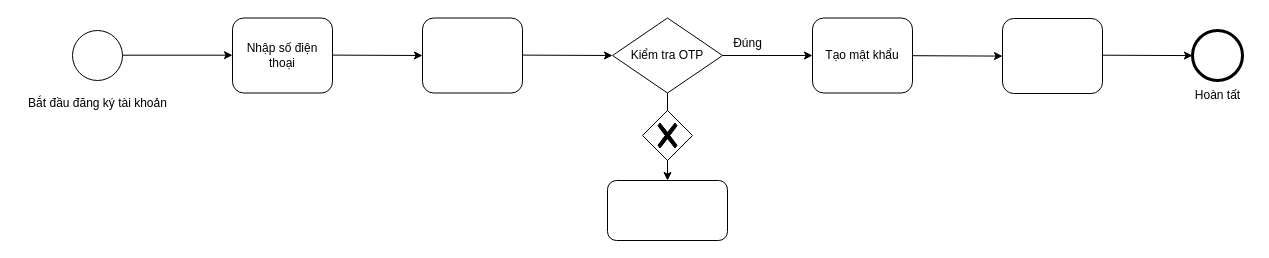
Image size: 1269x258. Some labels were removed from this diagram. Here are the shapes that lost their labels. From the top down, the box of each, then its label:
(422, 17, 522, 93): Xác thực OTP
(1002, 18, 1102, 94): Nhập thông tin
